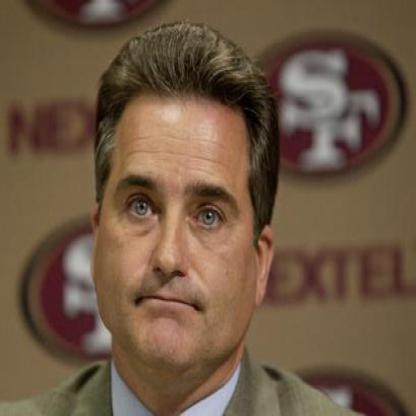face: (96, 46, 265, 377)
